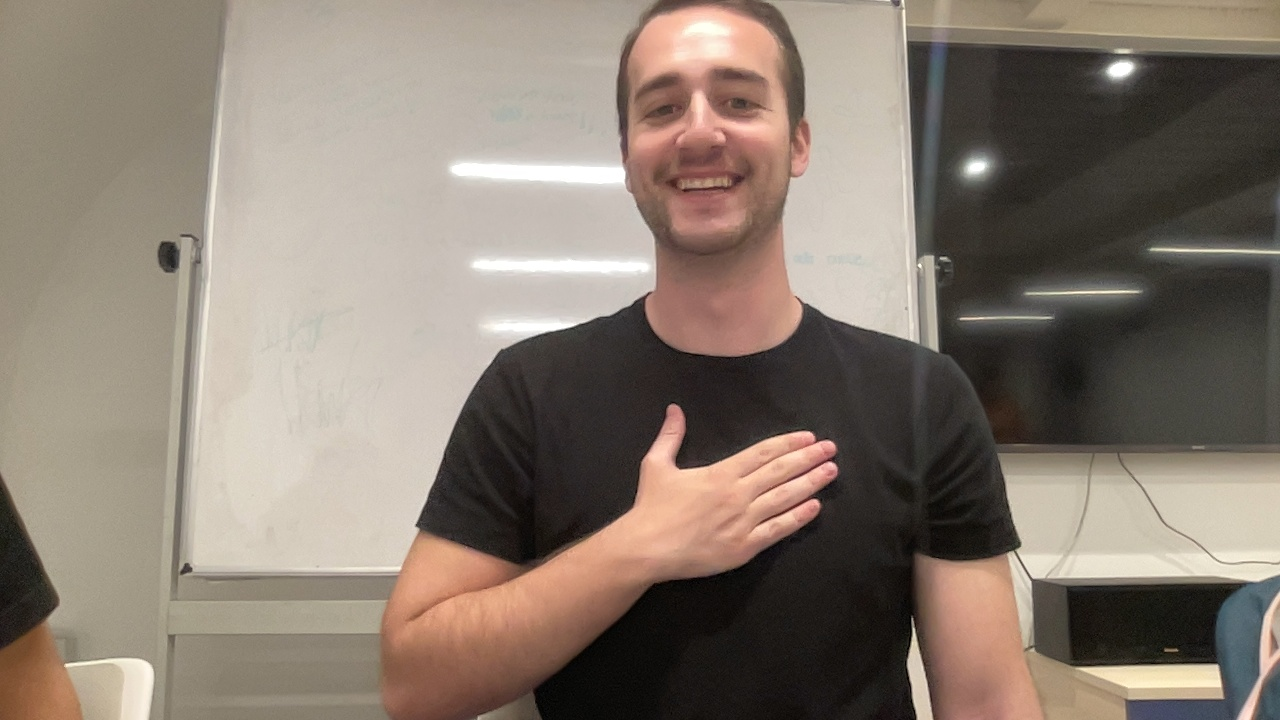Please: (377, 396, 843, 720)
